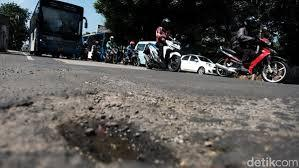Pothole: (0, 85, 299, 168)
